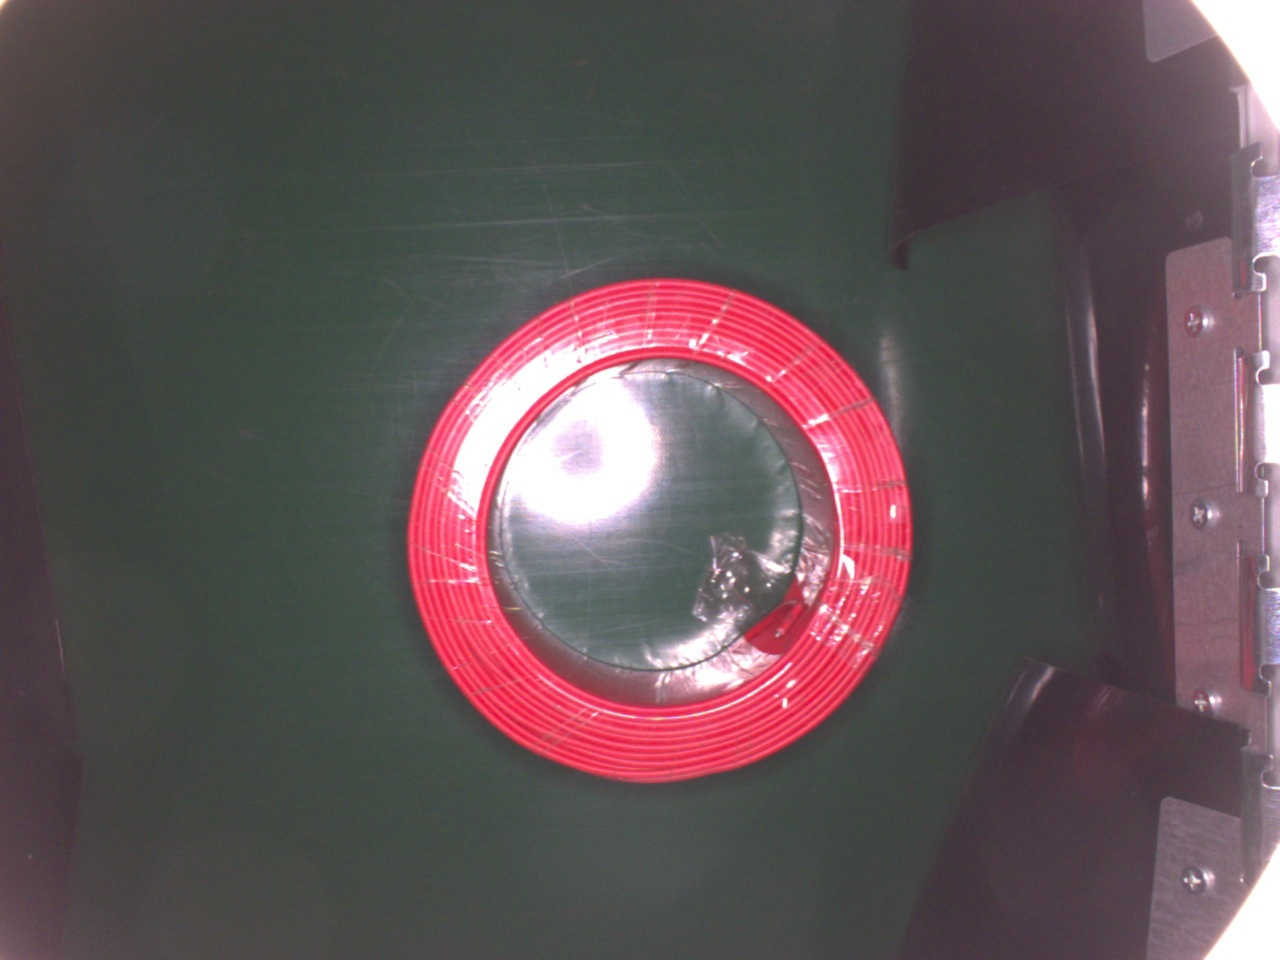red: (407, 273, 918, 784)
